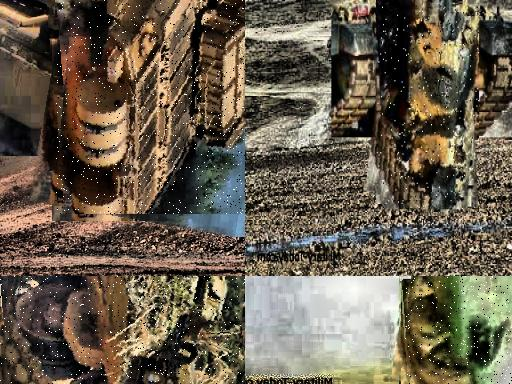tanks: (57, 1, 246, 215), (1, 277, 228, 384), (378, 7, 480, 210), (406, 277, 512, 384)
